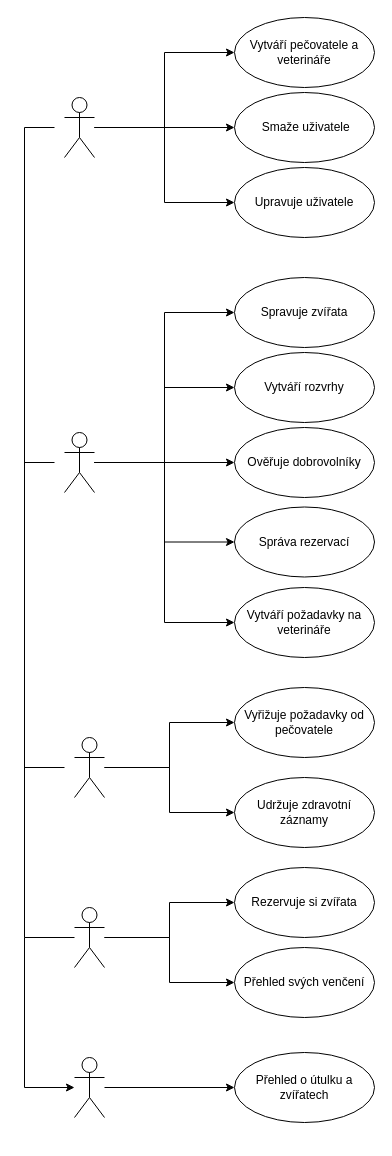
Some shapes in this 392 by 1156 pixel diagram are drawn without their labels. The centre of each missing label's shape, as x and y in pixels:
"Admin" belongs at (79,127).
"Dobrovolník" belongs at (89,937).
"Neregistrovaný uživatel" belongs at (89,1087).
"Pečovatel" belongs at (79,462).
"Veterinář" belongs at (89,767).
